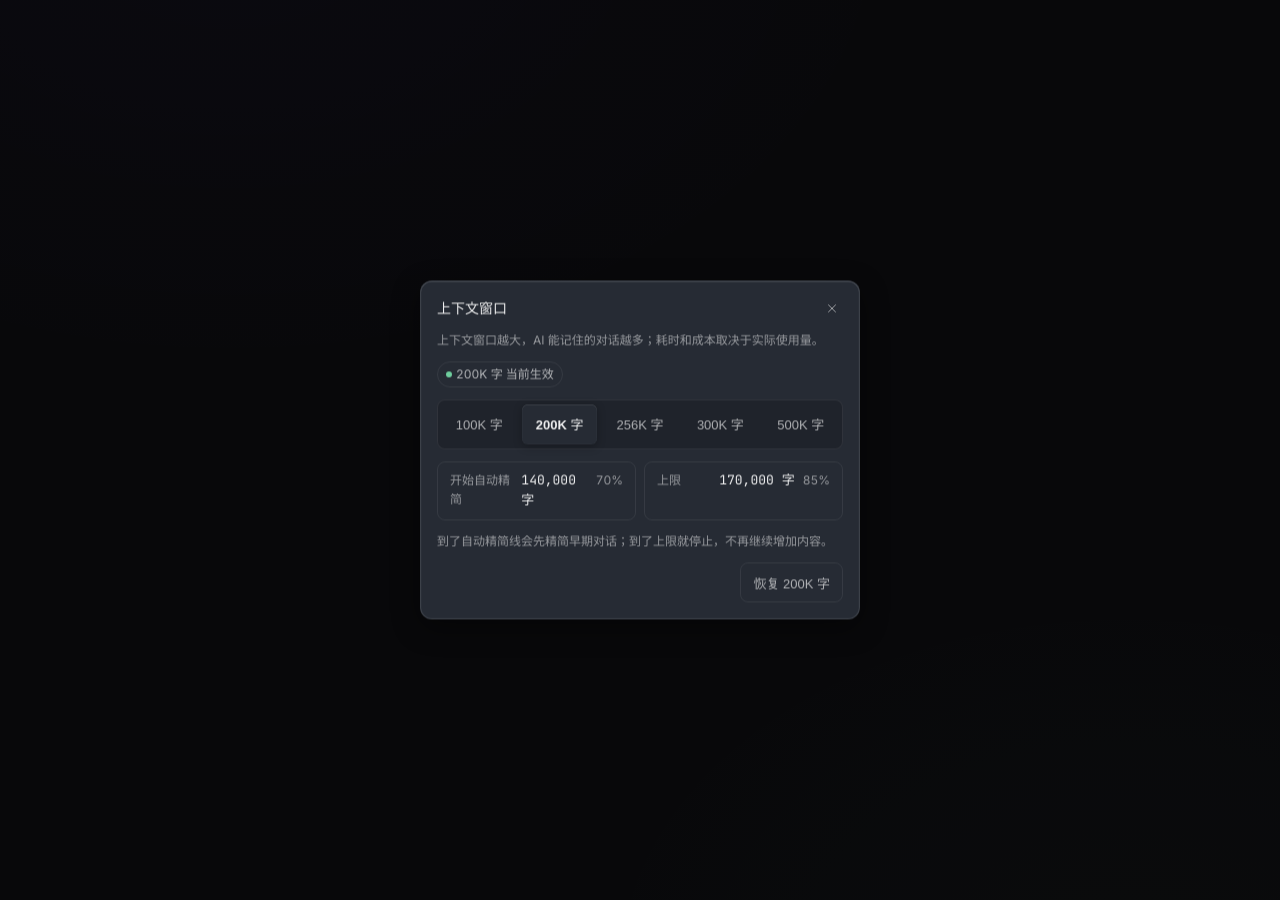
Test case: ContextWindowPanel 挡位选择器（效果图 01） › PATCH 失败（422 非法挡位）→ 选中态不动，就地显示后端 detail
Click the radio button with class "ctx-window-choice" showing "500K 字" at (801, 424), box [764,404,838,444]
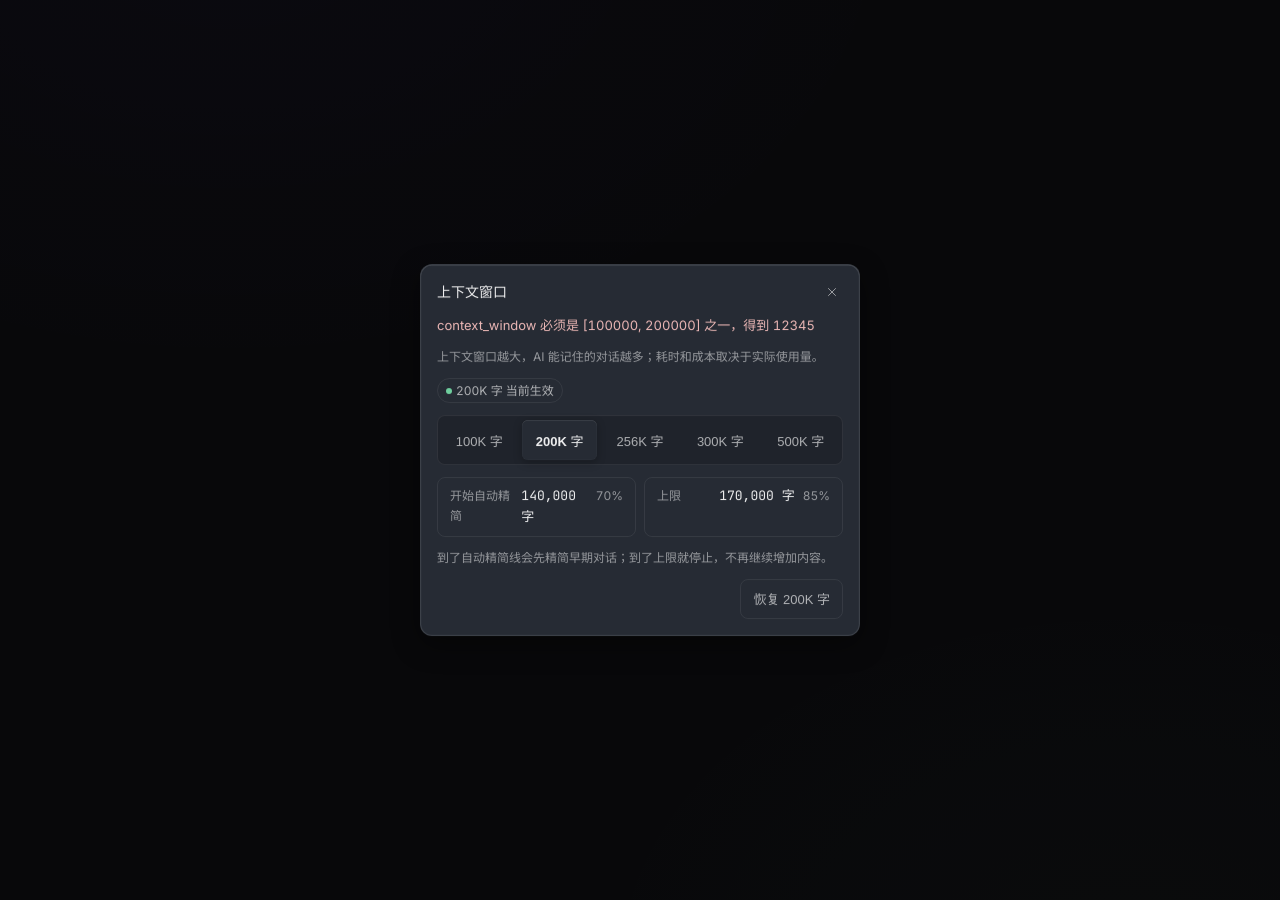
expect the radio button with class "ctx-window-choice" reads "200K 字": met, box [522,420,597,460]
expect the message with class "ctx-window-error" shows "得到 12345": met, box [437,317,815,333]
